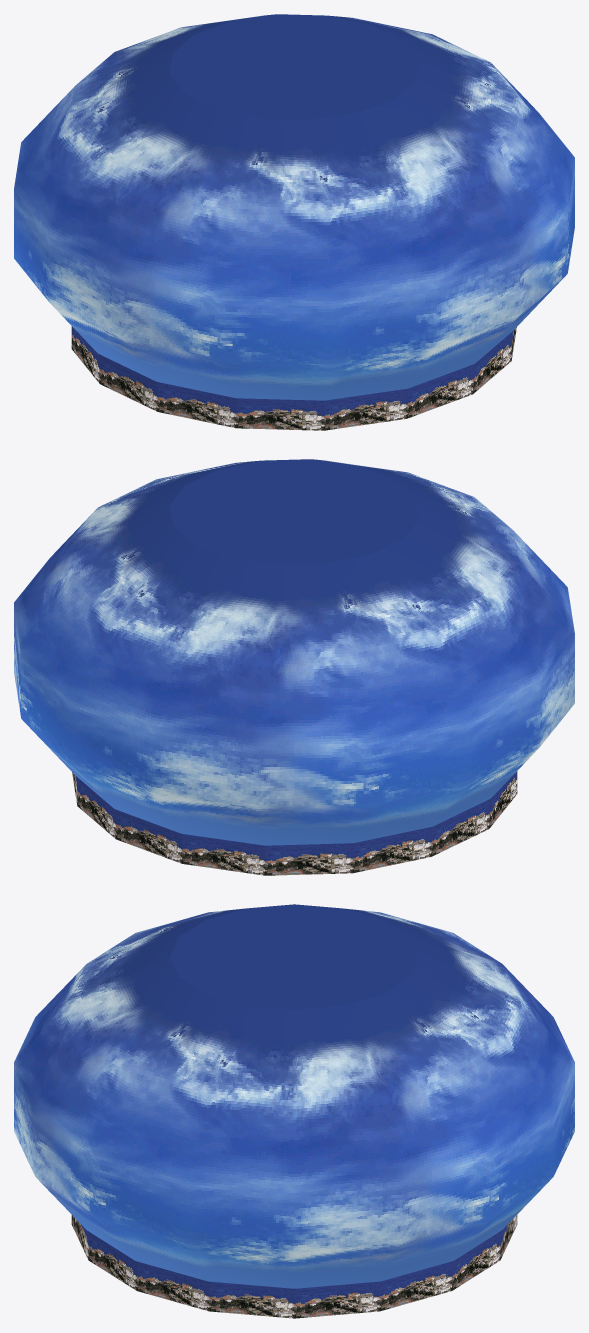
Rendered from sky.glb.
3 renders of one model, top to bottom at view 1: azimuth 30°, elevation 25°; view 2: azimuth 150°, elevation 25°; view 3: azimuth 270°, elevation 25°, orthographic.
Visible parts, largest first — view 1: sky dome, horizon; view 2: sky dome, horizon; view 3: sky dome, horizon.
Part boxes in pixels (left/top/right/bottom): sky dome: left=14, top=14, right=574, bottom=400; horizon: left=71, top=326, right=516, bottom=430; sky dome: left=14, top=459, right=574, bottom=845; horizon: left=72, top=771, right=517, bottom=875; sky dome: left=14, top=904, right=574, bottom=1288; horizon: left=71, top=1215, right=517, bottom=1318.
Size of the model in its own units: 16377 by 8610 by 16377.
2 materials, 2 textured.
